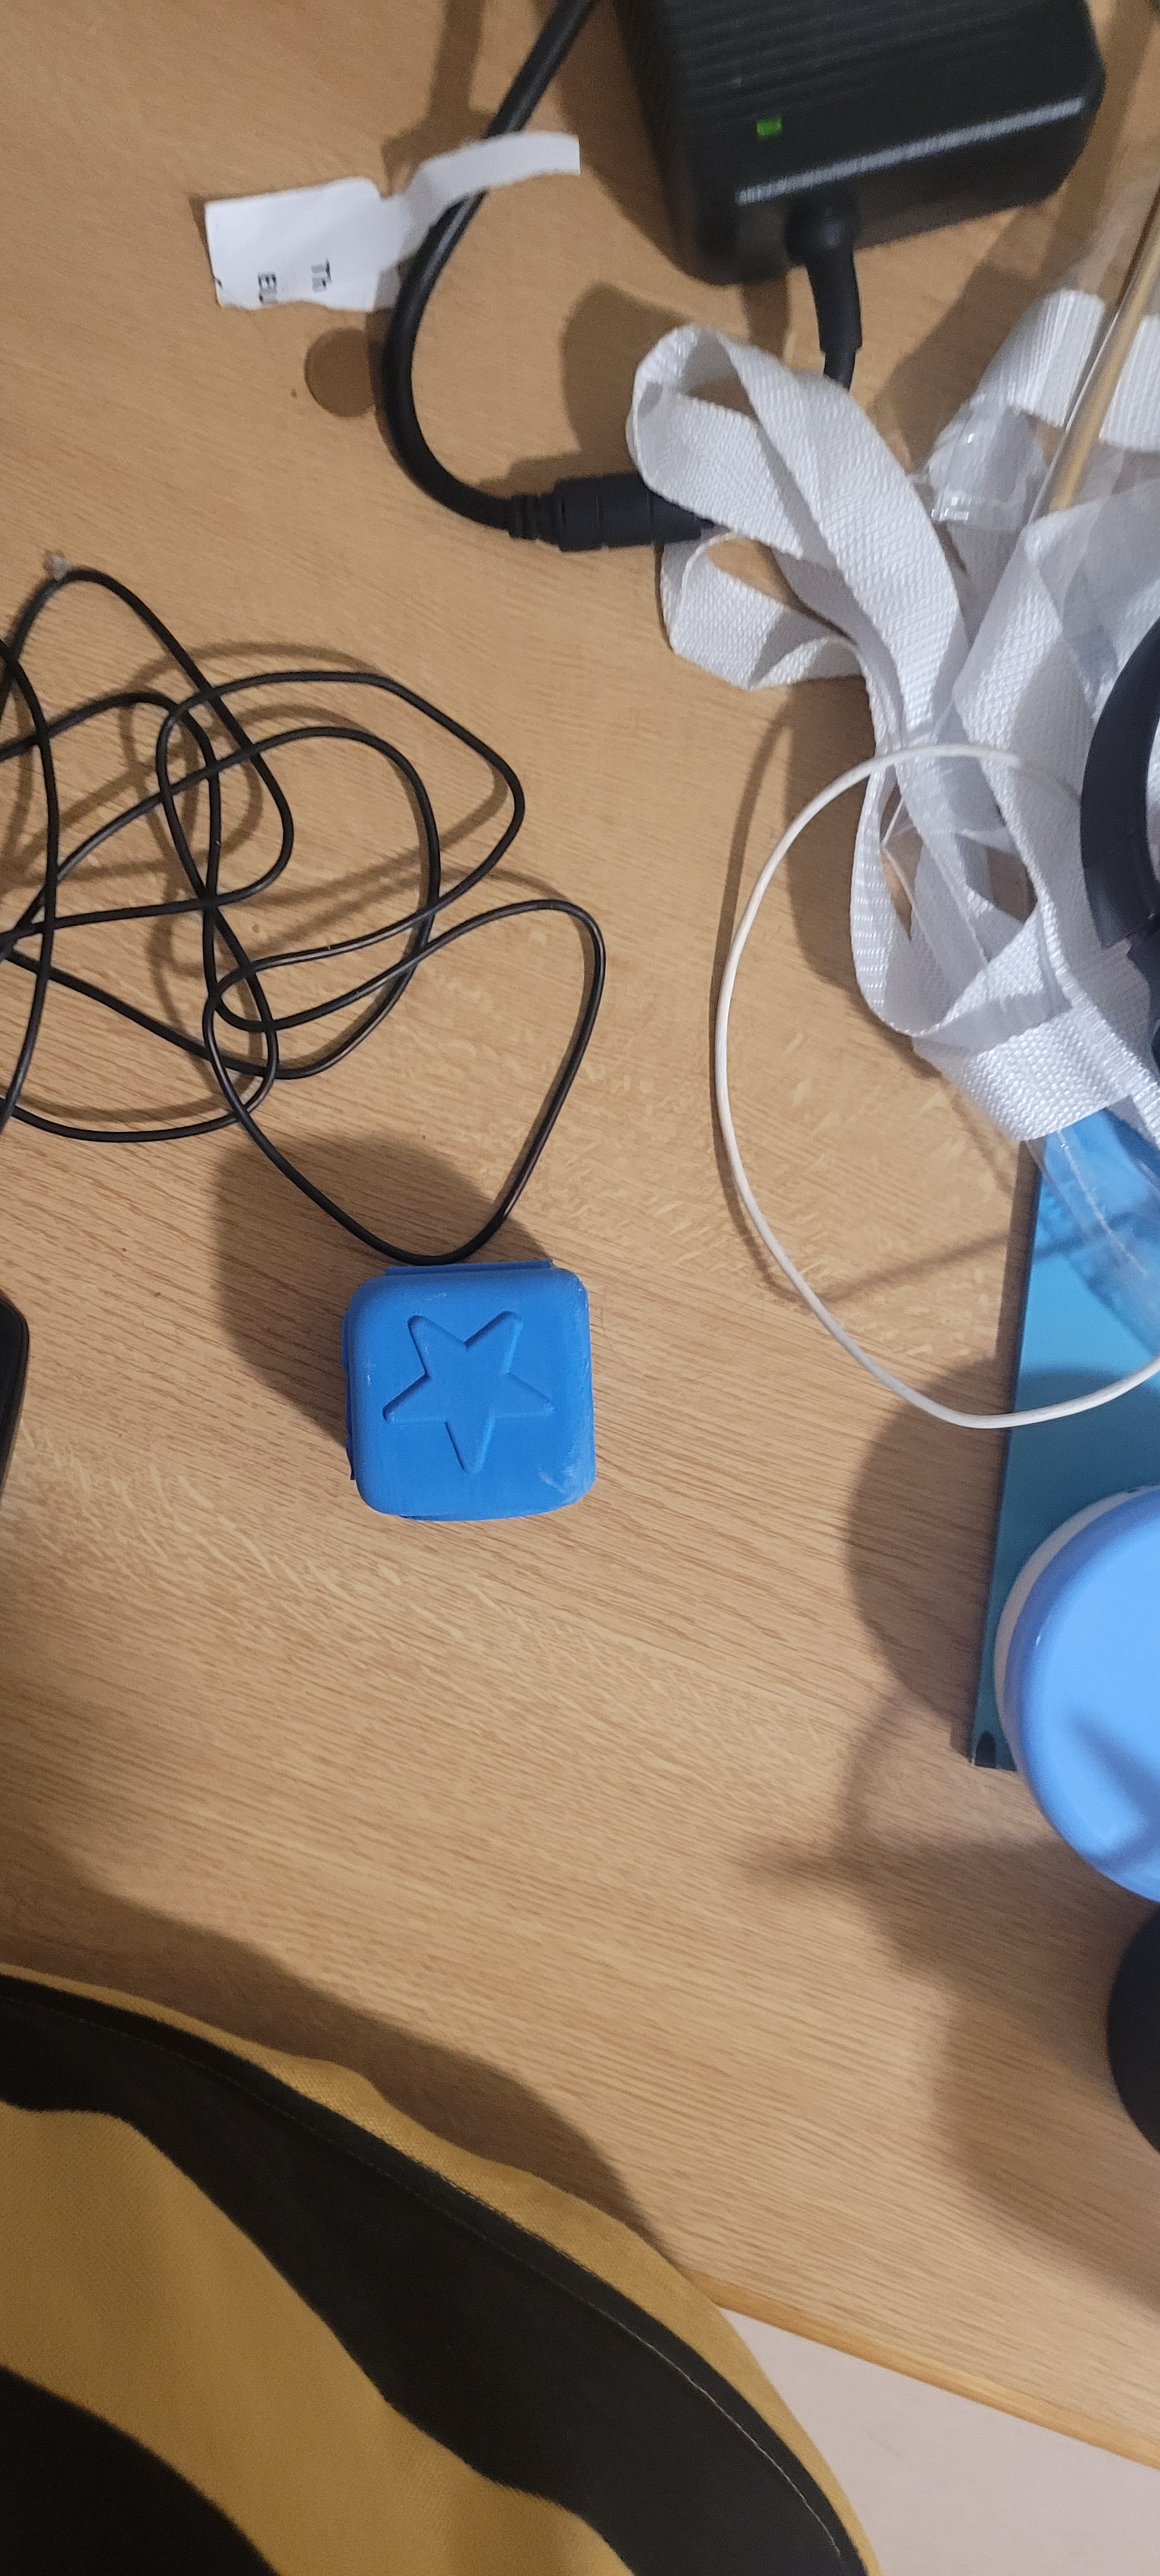Star: (370, 1311, 575, 1503)
